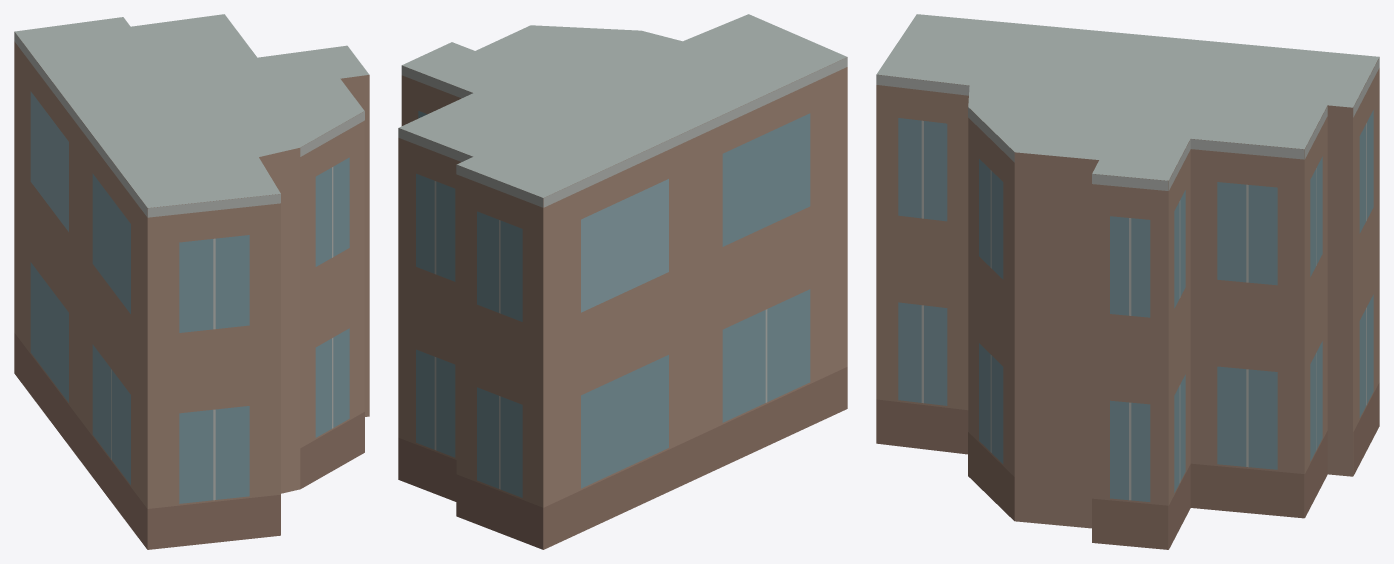
The model's file is survey-upis-32754920.glb.
3 renders of one model, left to right at view 1: azimuth 30°, elevation 25°; view 2: azimuth 150°, elevation 25°; view 3: azimuth 270°, elevation 25°, orthographic. The views are drawn at different scales.
Visible parts, largest first — view 1: survey-upis-32754920.tmp; view 2: survey-upis-32754920.tmp; view 3: survey-upis-32754920.tmp.
Part boxes in pixels (left/top/right/bottom): survey-upis-32754920.tmp: left=14, top=14, right=369, bottom=549; survey-upis-32754920.tmp: left=398, top=14, right=847, bottom=549; survey-upis-32754920.tmp: left=876, top=14, right=1379, bottom=549.
Bounding box in the file's own units: 8.44 × 8.7 × 10.76.
